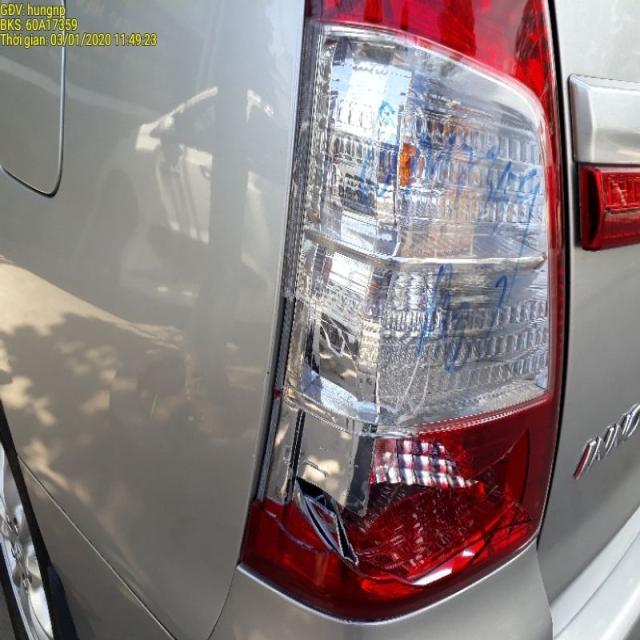Phare abime: (273, 270, 379, 527)
